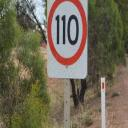speed_limit_110: (44, 0, 92, 88)
